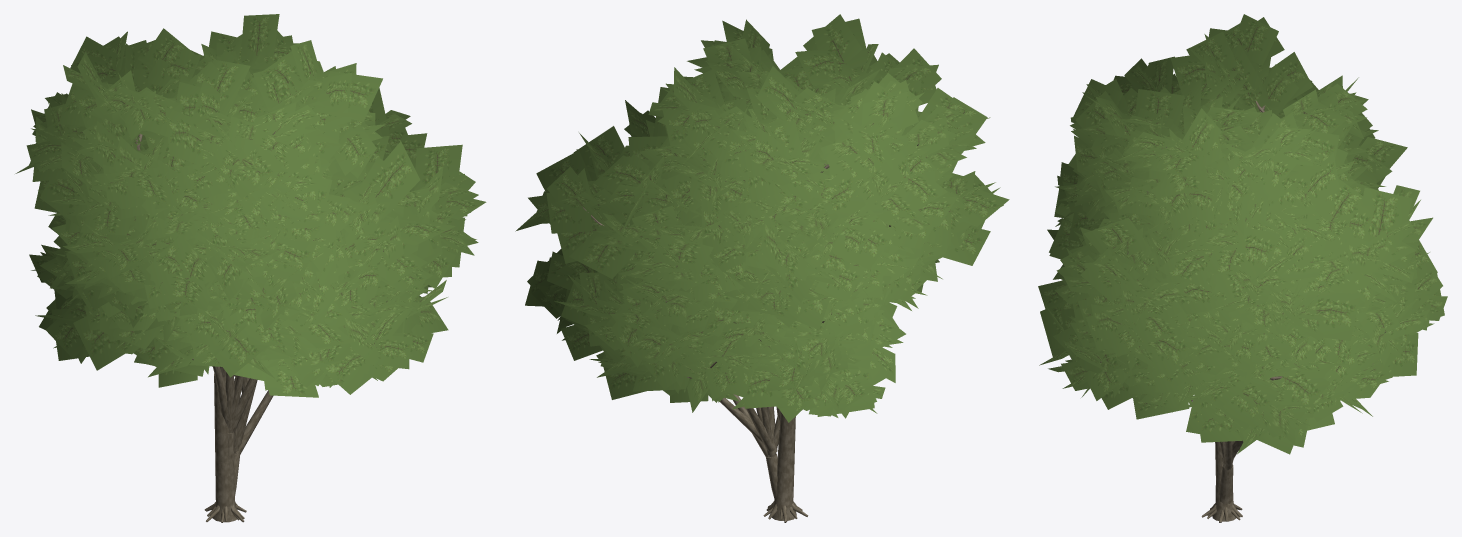
Rendered from maple.glb.
3 views of the same model, side by side, from view 1: azimuth 30°, elevation 25°; view 2: azimuth 150°, elevation 25°; view 3: azimuth 270°, elevation 25° (orthographic). The views are drawn at different scales.
Visible parts, largest first — view 1: foliage.007, foliage.008, foliage.006, wood.007, wood.006, wood.008; view 2: foliage.007, foliage.008, foliage.006, wood.008, wood.007; view 3: foliage.008, foliage.007, foliage.006, wood.008, wood.007.
Boxes of the visible parts, box(x1,y1,x2,y2) form: foliage.007: box(26, 14, 386, 344); foliage.008: box(15, 87, 486, 397); foliage.006: box(29, 135, 455, 387); wood.007: box(135, 132, 275, 522); wood.006: box(205, 251, 383, 520); wood.008: box(192, 345, 374, 522); foliage.007: box(639, 14, 1009, 330); foliage.008: box(515, 100, 924, 422); foliage.006: box(593, 120, 939, 400); wood.008: box(582, 207, 802, 519); wood.007: box(766, 61, 918, 522); foliage.008: box(1038, 137, 1447, 454); foliage.007: box(1047, 14, 1385, 287); foliage.006: box(1049, 127, 1403, 394); wood.008: box(1100, 332, 1385, 522); wood.007: box(1147, 101, 1305, 521).
Bounding box in the file's own units: 11.66 × 12.41 × 10.47.
Materials: 2 (2 with a texture image).
